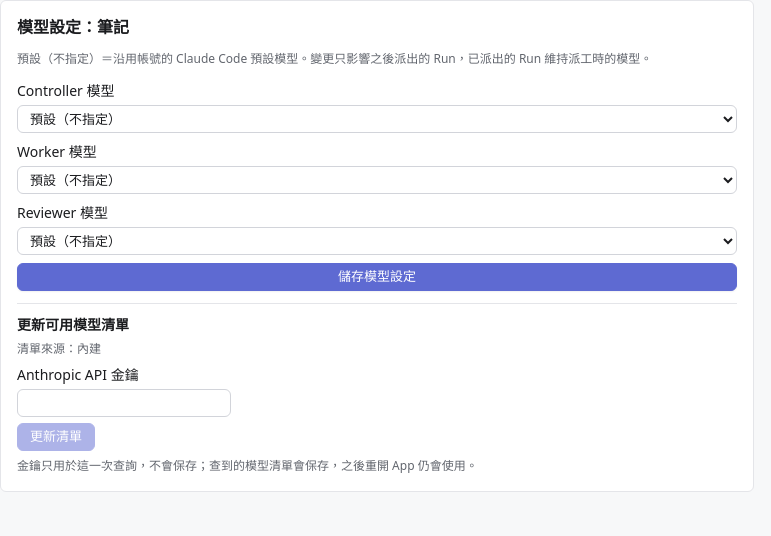
Test: 模型設定 › 以 API 金鑰更新可用模型清單 › 更新成功後下拉選單改用查到的模型、顯示來源與時間，金鑰欄位清空且只送給這一次更新
Expected: the dropdown labelled "Worker 模型" is shown, [17,166,737,194]
Type "sk-ant-api03-test-key" into the password field labelled "Anthropic API 金鑰" at coordinates (124, 403), box [17,389,231,417]
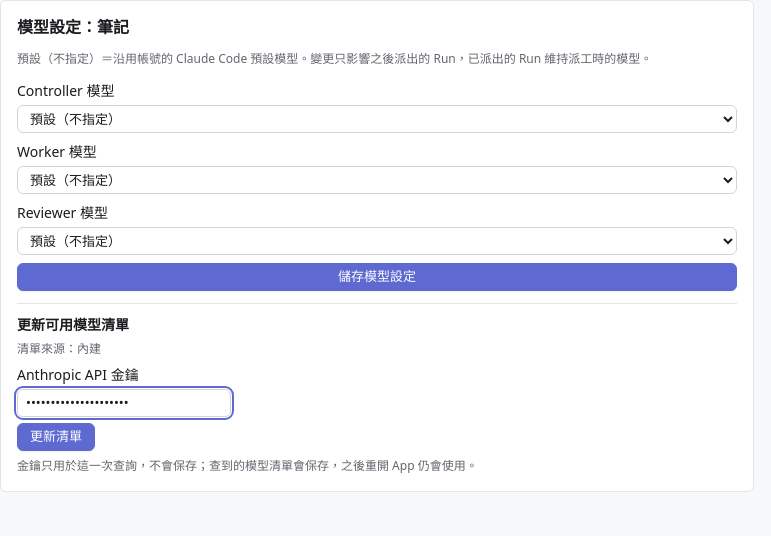
Click the button "更新清單" at coordinates (56, 437), box [17,423,95,451]
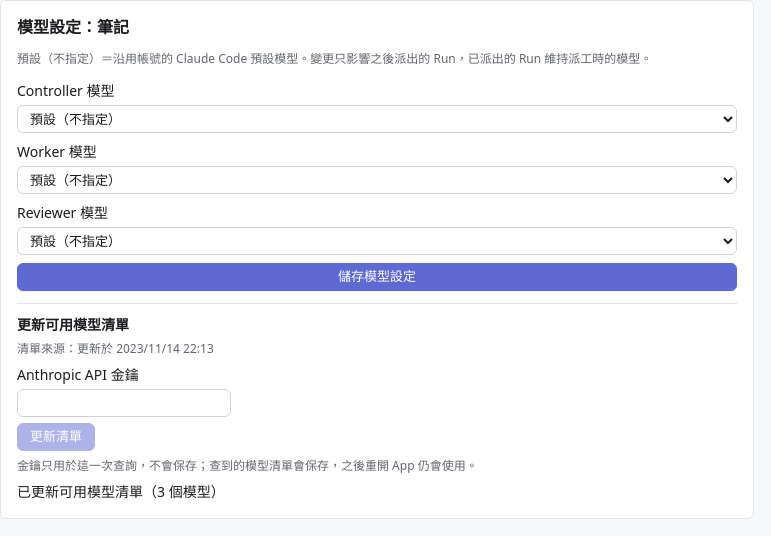
Now the password field labelled "Anthropic API 金鑰" is empty, box [17,389,231,417]
Now the message reads "已更新可用模型清單（3 個模型）", box [17,482,225,501]
Now the text "清單來源：更新於 2023/11/14 22:13" is shown, box [17,340,214,357]
